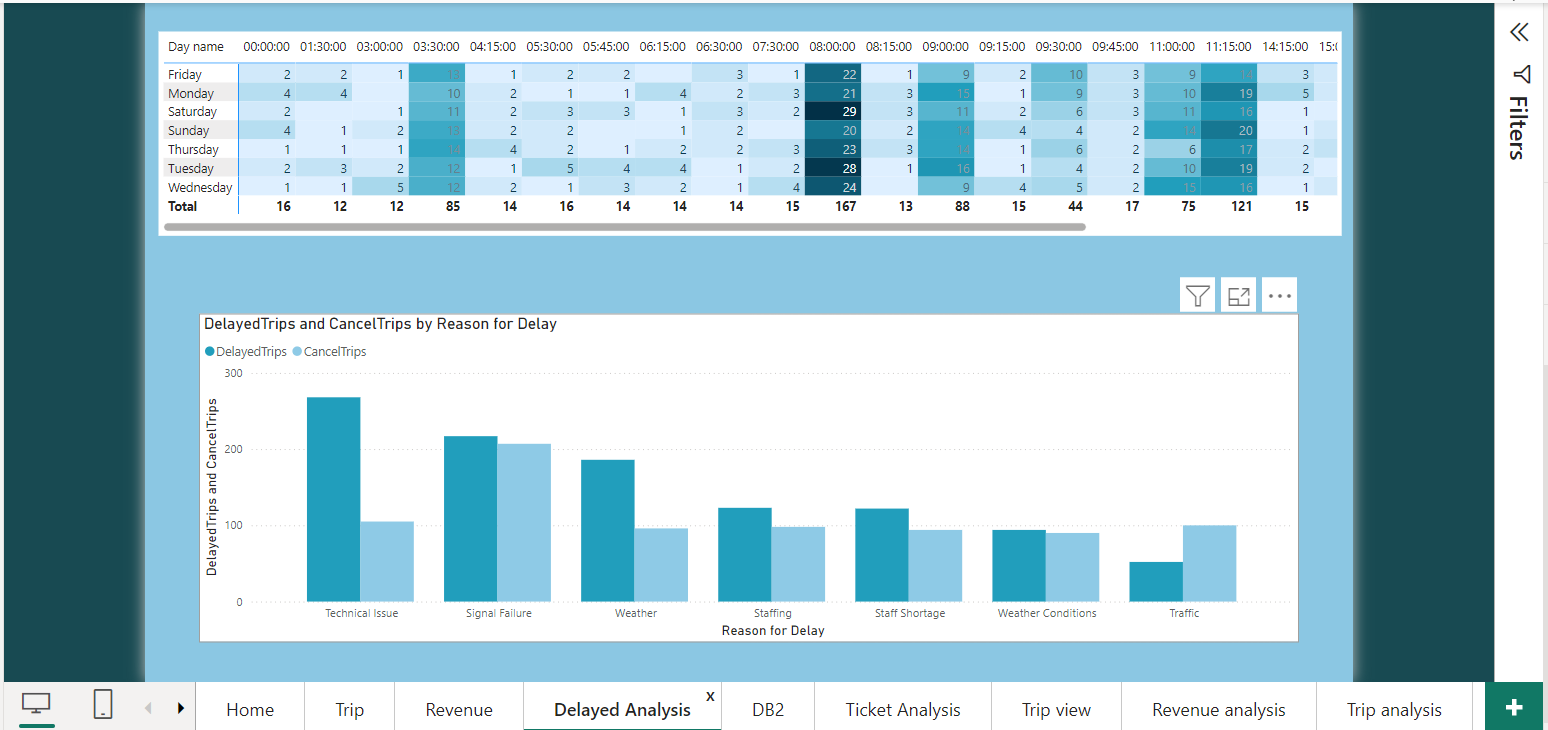

Layout of this report page (visuals, bound fields, positions):
{"tool":"powerbi","page":{"name":"Delayed Analysis","canvas":[1280,720],"ordinal":3},"visuals":[{"type":"pivotTable","fields":{"Columns":["Railway.Departure Time"],"Values":["_Measures.DelayedTrips"],"Rows":["Railway.Day name"]},"box":[14.6,30.8,1254.9,217],"z":0},{"type":"clusteredColumnChart","fields":{"Category":["Railway.Reason for Delay"],"Y":["_Measures.DelayedTrips","_Measures.CancelTrips"]},"box":[56.7,328.7,1165.8,348.1],"z":1000}]}

Visuals, with their boxes on the page's 1280x720 design canvas (x1, y1, x2, y2). These are canvas units, not pixel positions in the 1548x730 screenshot, which may show the page scaled, cropped or inside an application window:
pivotTable - Railway.Departure Time x _Measures.DelayedTrips: [left=15, top=31, right=1270, bottom=248]
clusteredColumnChart - Railway.Reason for Delay x _Measures.DelayedTrips: [left=57, top=329, right=1222, bottom=677]
